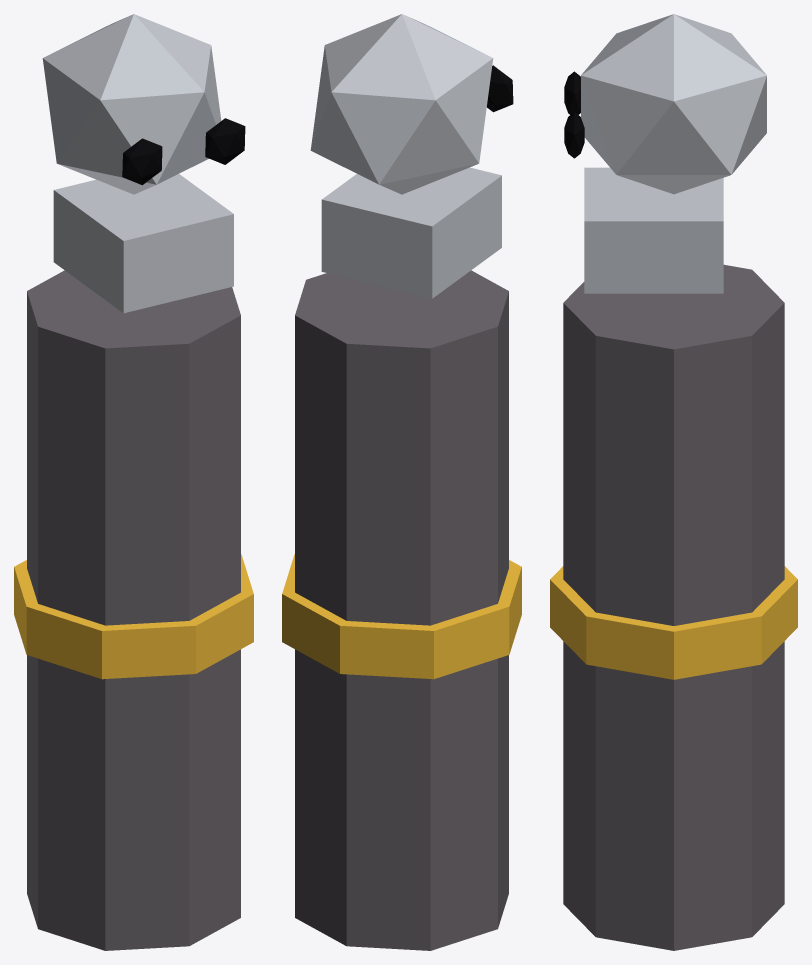
Rendered from Prop_OR_SkullTotem_08.glb.
3 renders of one model, left to right at view 1: azimuth 30°, elevation 25°; view 2: azimuth 150°, elevation 25°; view 3: azimuth 270°, elevation 25°, orthographic.
Visible parts, largest first — view 1: Prop_OR_SkullTotem_08; view 2: Prop_OR_SkullTotem_08; view 3: Prop_OR_SkullTotem_08.
Part boxes in pixels (left/top/right/bottom): Prop_OR_SkullTotem_08: left=14, top=14, right=253, bottom=950; Prop_OR_SkullTotem_08: left=282, top=14, right=521, bottom=950; Prop_OR_SkullTotem_08: left=550, top=14, right=797, bottom=950.
Size of the model in its own units: 0.56 by 2.22 by 0.56.
